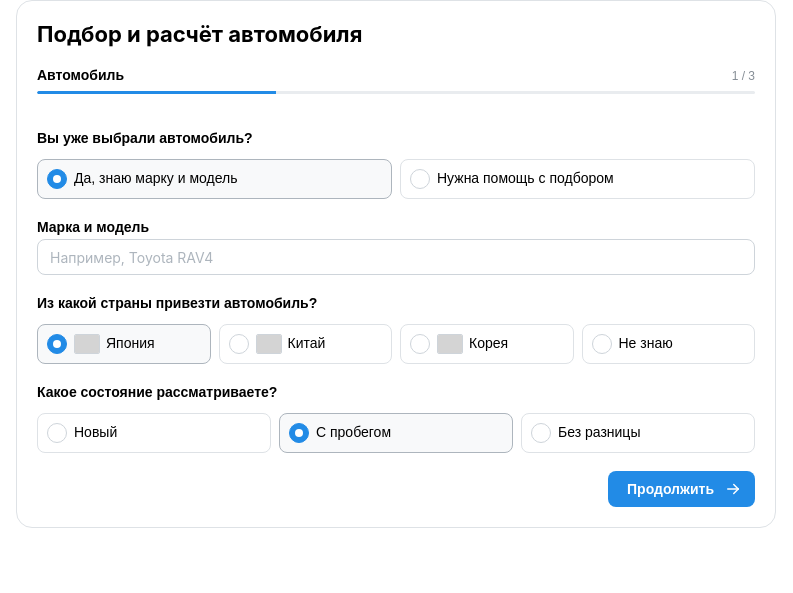
Test case: сохраняет значения при переходе назад
Type "Toyota RAV4" into the field labelled "Марка и модель".
click(396, 257); type("Toyota RAV4")  # box [37,239,755,275]
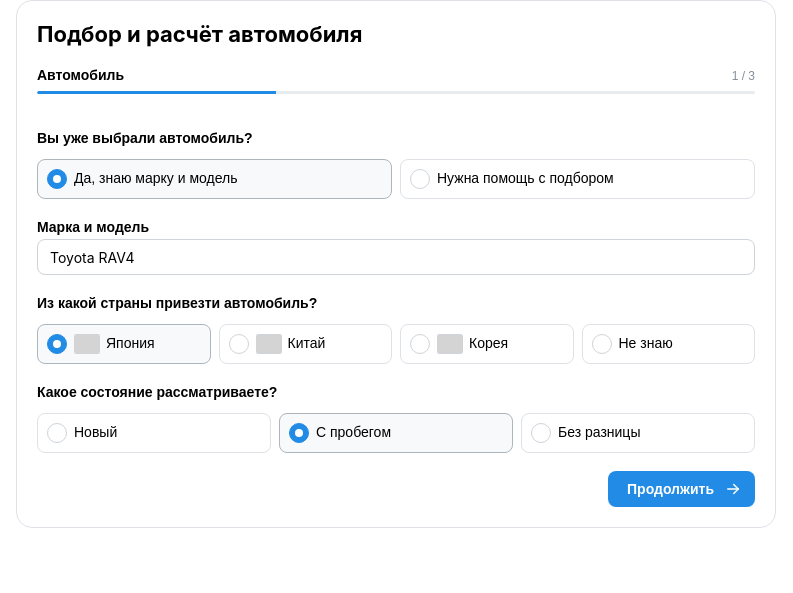
Click the button "Продолжить".
click(682, 489)  # box [608,471,755,507]
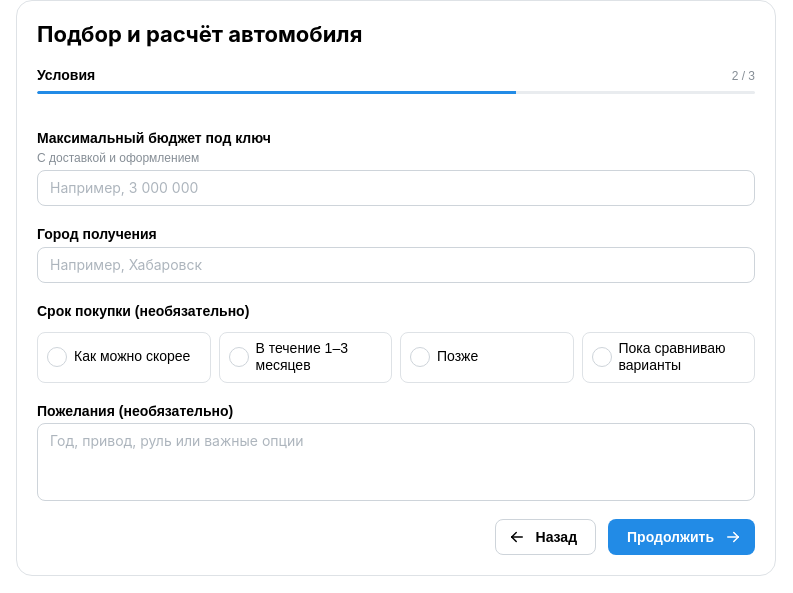
Type "3000000" into the field labelled "Максимальный бюджет под ключ".
click(396, 188); type("3000000")  # box [37,170,755,206]
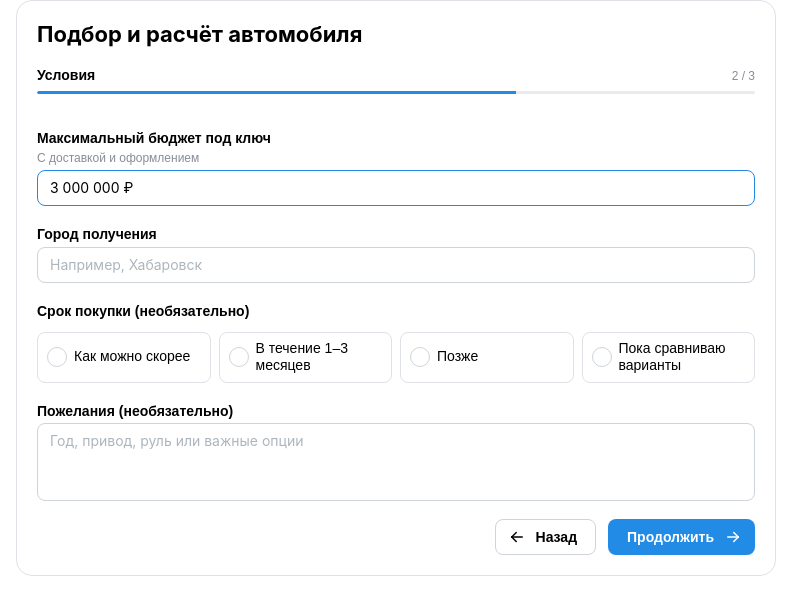
Click the button "Назад".
click(545, 537)  # box [494,519,596,555]
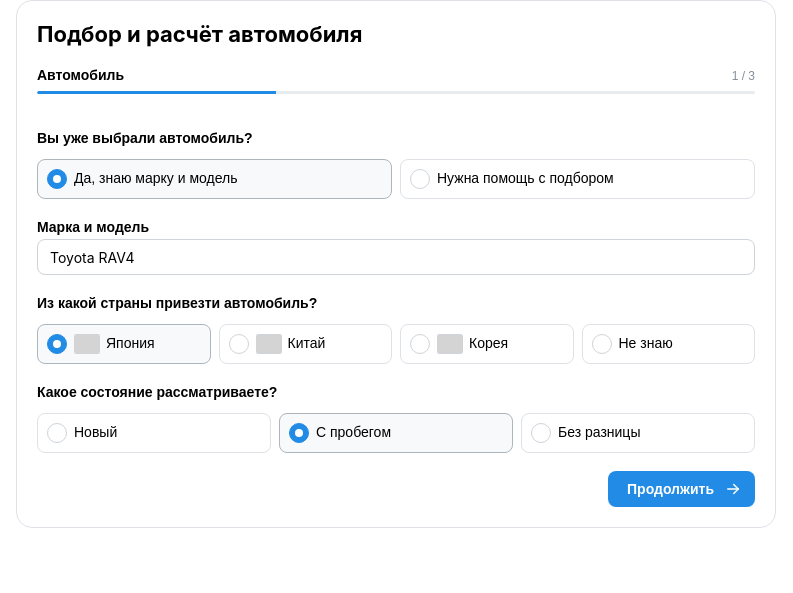
expect the field labelled "Марка и модель" holds "Toyota RAV4": met, box [37,239,755,275]
Click the button "Продолжить".
click(682, 489)  # box [608,471,755,507]
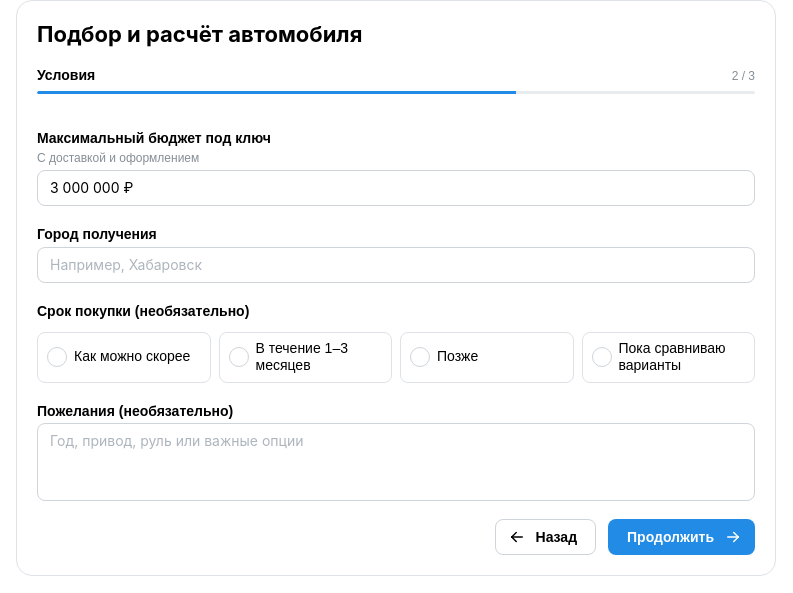
expect the field labelled "Максимальный бюджет под ключ" holds "3 000 000 ₽": met, box [37,170,755,206]
